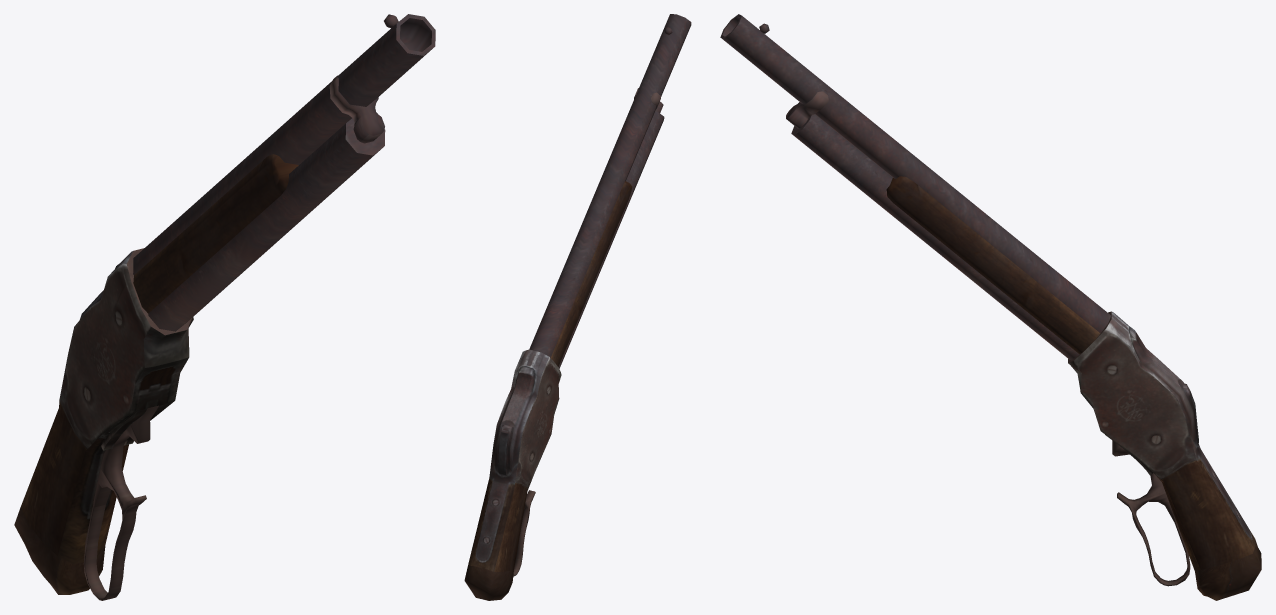
File: shotgun.glb
3 renders of one model, left to right at view 1: azimuth 30°, elevation 25°; view 2: azimuth 150°, elevation 25°; view 3: azimuth 270°, elevation 25°, orthographic. The views are drawn at different scales.
Parts seen in each view (by area): view 1: w_r.002; view 2: w_r.002; view 3: w_r.002.
Boxes of the visible parts, bbox=[...] form: w_r.002: bbox=[14, 14, 435, 600]; w_r.002: bbox=[464, 14, 691, 600]; w_r.002: bbox=[720, 14, 1261, 600].
Size of the model in its own units: 0.0438 by 0.6171 by 0.52.
1 material, 1 textured.
